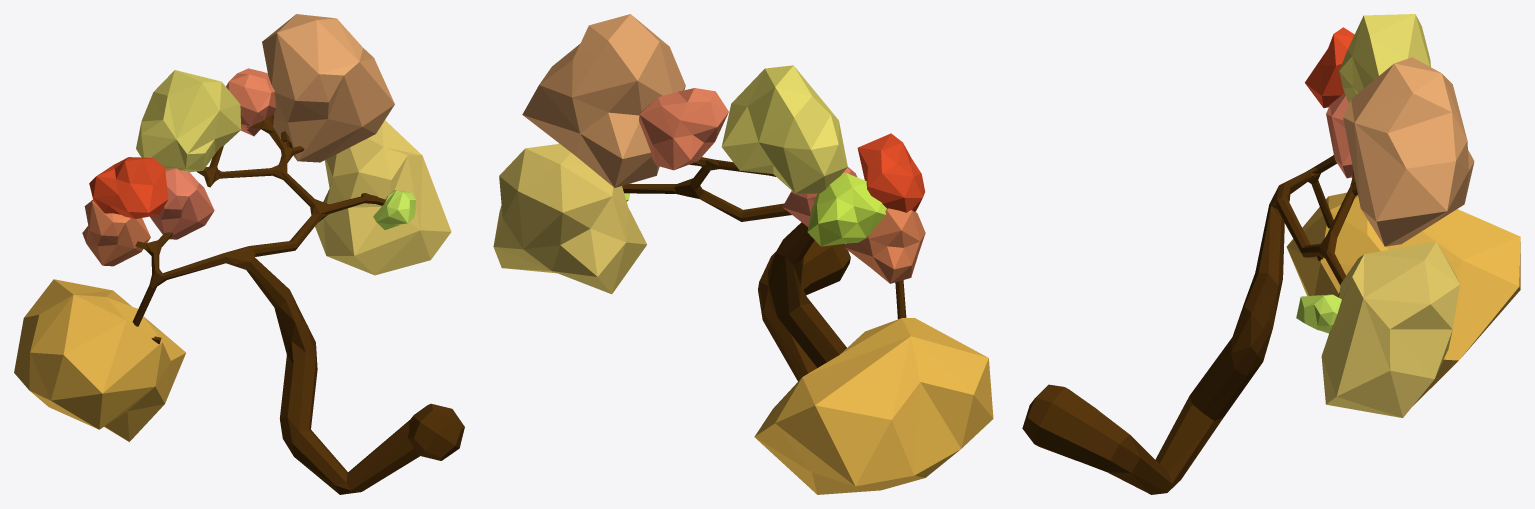
The model's file is JapanTree.fbx.
The picture shows the model from 3 angles, left to right: view 1: azimuth 30°, elevation 25°; view 2: azimuth 150°, elevation 25°; view 3: azimuth 270°, elevation 25°; orthographic projection. The views are drawn at different scales.
Parts seen in each view (by area): view 1: Icosphere.003, Cube, Icosphere.001, Icosphere, Icosphere.008, Icosphere.007, Icosphere.004, Icosphere.005, Icosphere.002, Icosphere.009; view 2: Icosphere.003, Icosphere.001, Icosphere, Cube, Icosphere.008, Icosphere.002, Icosphere.006, Icosphere.007, Icosphere.004, Icosphere.005; view 3: Cube, Icosphere, Icosphere.001, Icosphere.003, Icosphere.008, Icosphere.007, Icosphere.005, Icosphere.009.
Boxes of the visible parts, bbox=[...] form: Icosphere.003: bbox=[14, 279, 185, 441]; Cube: bbox=[132, 114, 464, 494]; Icosphere.001: bbox=[262, 14, 394, 162]; Icosphere: bbox=[315, 120, 451, 275]; Icosphere.008: bbox=[136, 70, 241, 172]; Icosphere.007: bbox=[89, 157, 168, 218]; Icosphere.004: bbox=[82, 200, 150, 266]; Icosphere.005: bbox=[150, 168, 214, 239]; Icosphere.002: bbox=[226, 68, 276, 136]; Icosphere.009: bbox=[373, 190, 415, 229]; Icosphere.003: bbox=[754, 318, 993, 494]; Icosphere.001: bbox=[522, 14, 685, 187]; Icosphere: bbox=[493, 143, 646, 294]; Cube: bbox=[622, 157, 906, 381]; Icosphere.008: bbox=[721, 65, 847, 193]; Icosphere.002: bbox=[639, 88, 728, 170]; Icosphere.006: bbox=[807, 173, 886, 246]; Icosphere.007: bbox=[857, 133, 925, 212]; Icosphere.004: bbox=[844, 208, 925, 283]; Icosphere.005: bbox=[782, 167, 857, 226]; Cube: bbox=[1022, 155, 1357, 494]; Icosphere: bbox=[1321, 241, 1459, 417]; Icosphere.001: bbox=[1343, 57, 1474, 246]; Icosphere.003: bbox=[1286, 192, 1520, 405]; Icosphere.008: bbox=[1339, 14, 1430, 103]; Icosphere.007: bbox=[1305, 27, 1354, 107]; Icosphere.005: bbox=[1326, 93, 1353, 178]; Icosphere.009: bbox=[1296, 294, 1341, 333].
Bounding box in the file's own units: 165 × 151 × 146.
